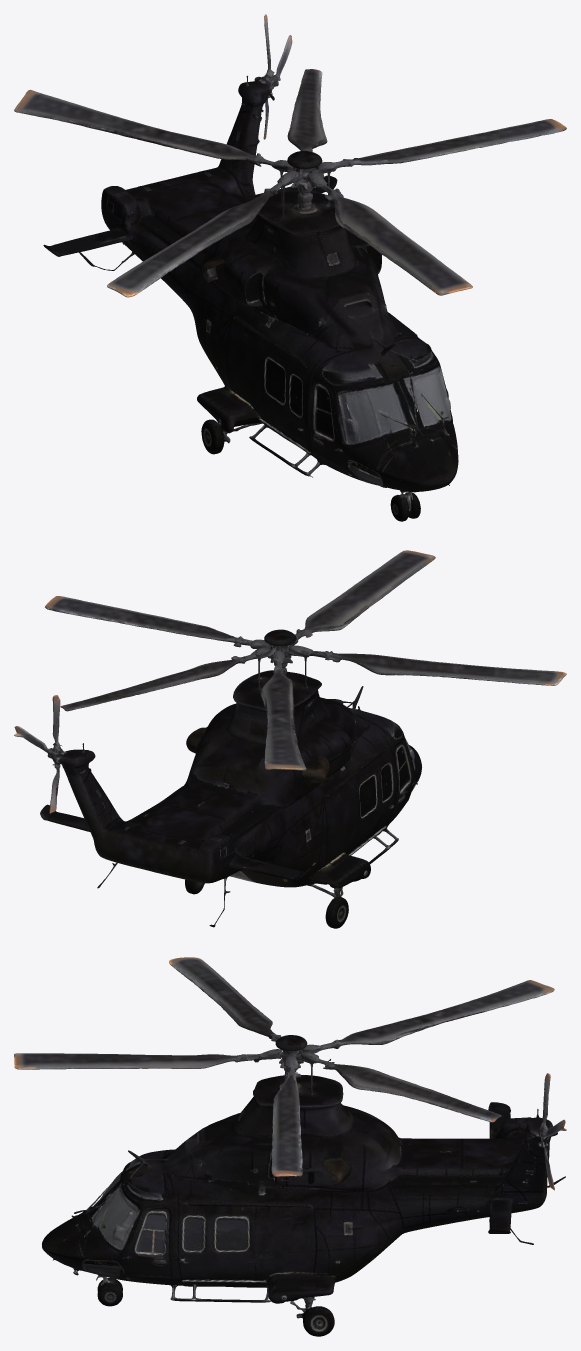
File: helicopter.glb
The picture shows the model from 3 angles, top to bottom: view 1: azimuth 30°, elevation 25°; view 2: azimuth 150°, elevation 25°; view 3: azimuth 270°, elevation 25°; orthographic projection. The views are drawn at different scales.
Parts seen in each view (by area): view 1: world; view 2: world; view 3: world.
Part boxes in pixels (left/top/right/bottom): world: left=14, top=14, right=566, bottom=521; world: left=14, top=550, right=566, bottom=928; world: left=14, top=957, right=566, bottom=1336.
Size of the model in its own units: 1.9 by 1.09 by 1.99.
Materials: 1 (1 with a texture image).
